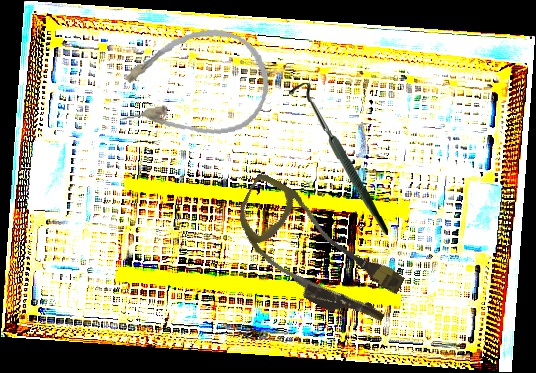Cannula: (216, 171, 417, 336), (110, 22, 275, 148)
Hook Surgical: (288, 79, 389, 239)
